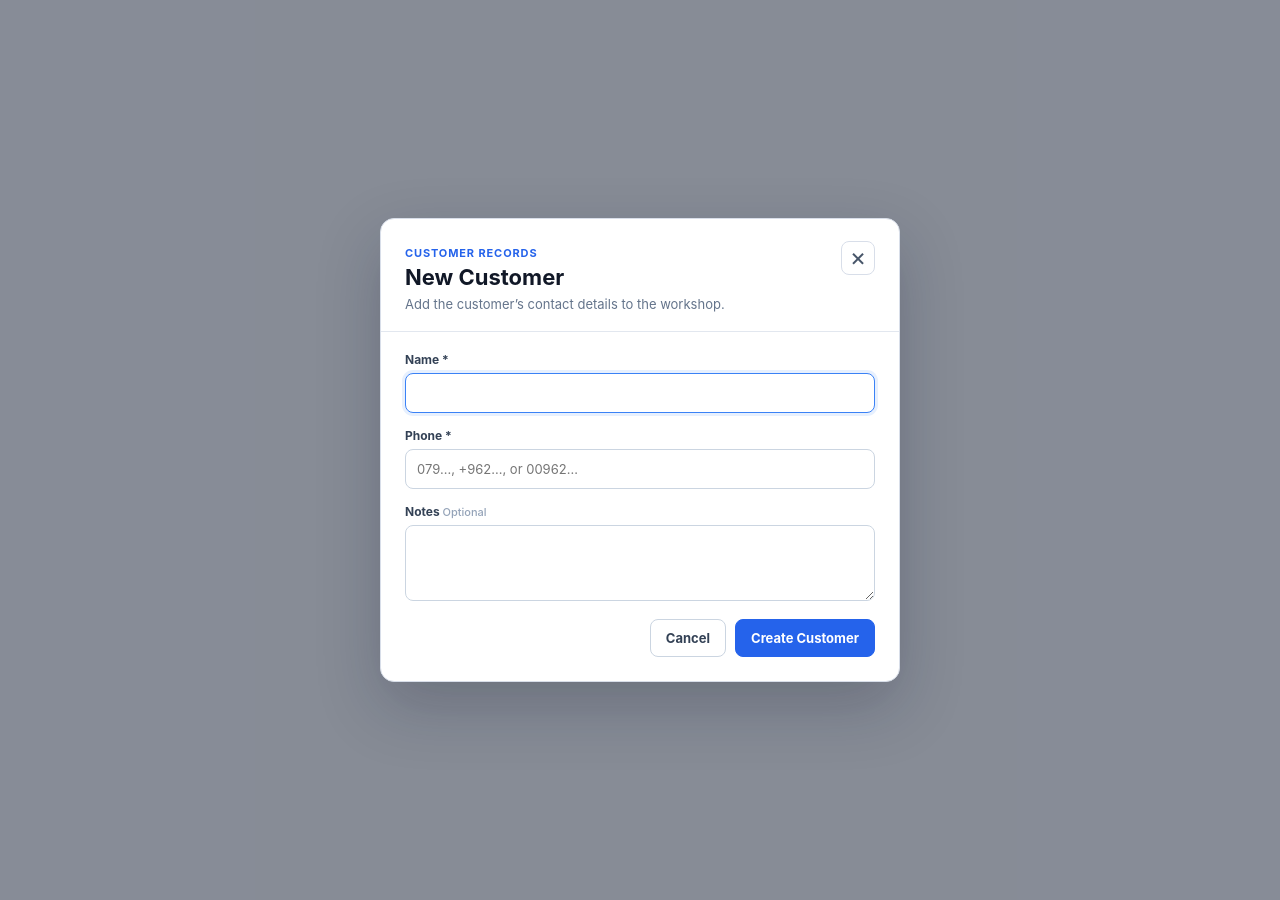
Test: NewCustomerDialog › shows safe validationError feedback
In the field labelled "Name": (640, 393) x1=405 y1=373 x2=875 y2=413, type "Ahmad Ali"
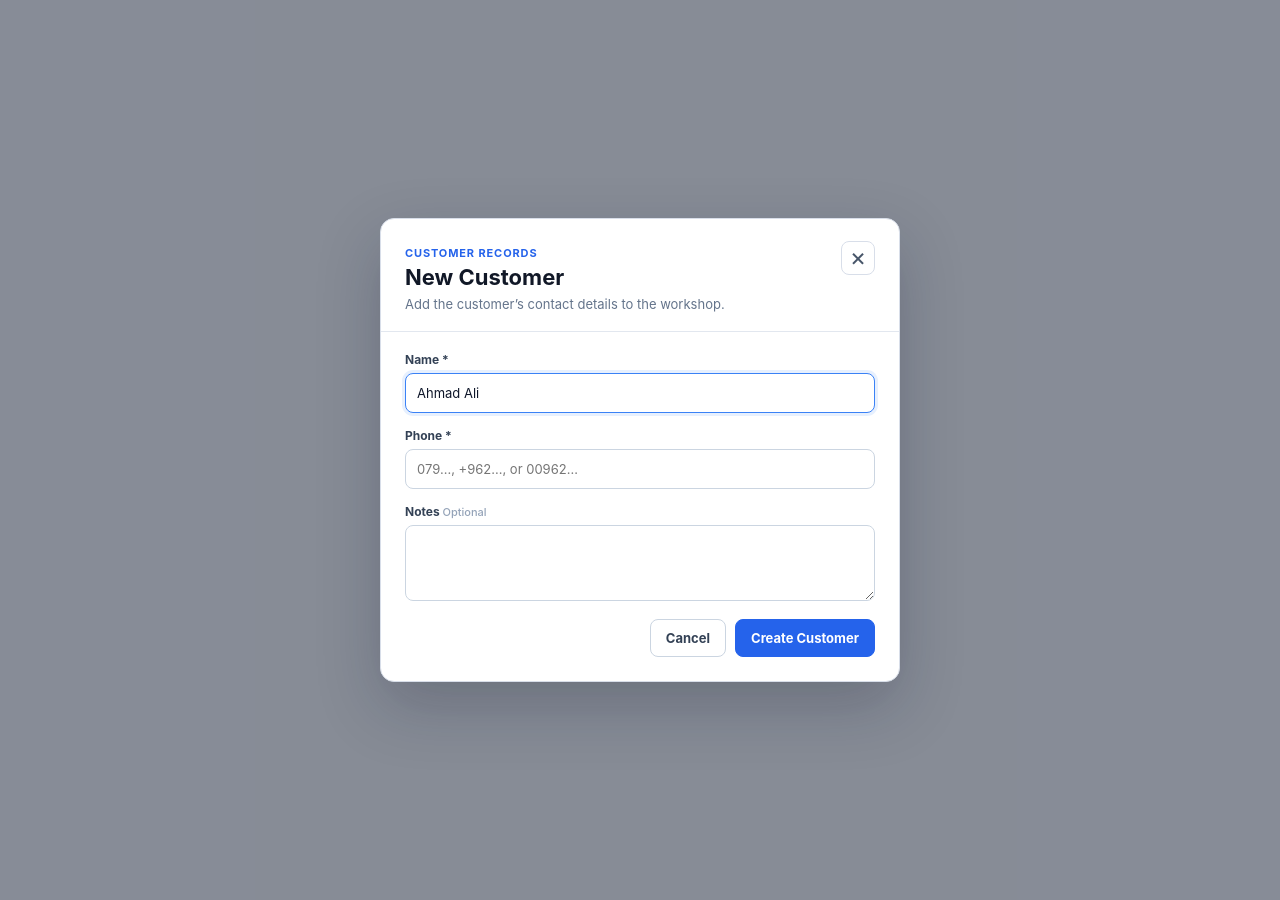
In the field labelled "Phone": (640, 469) x1=405 y1=449 x2=875 y2=489, type "0791234567"
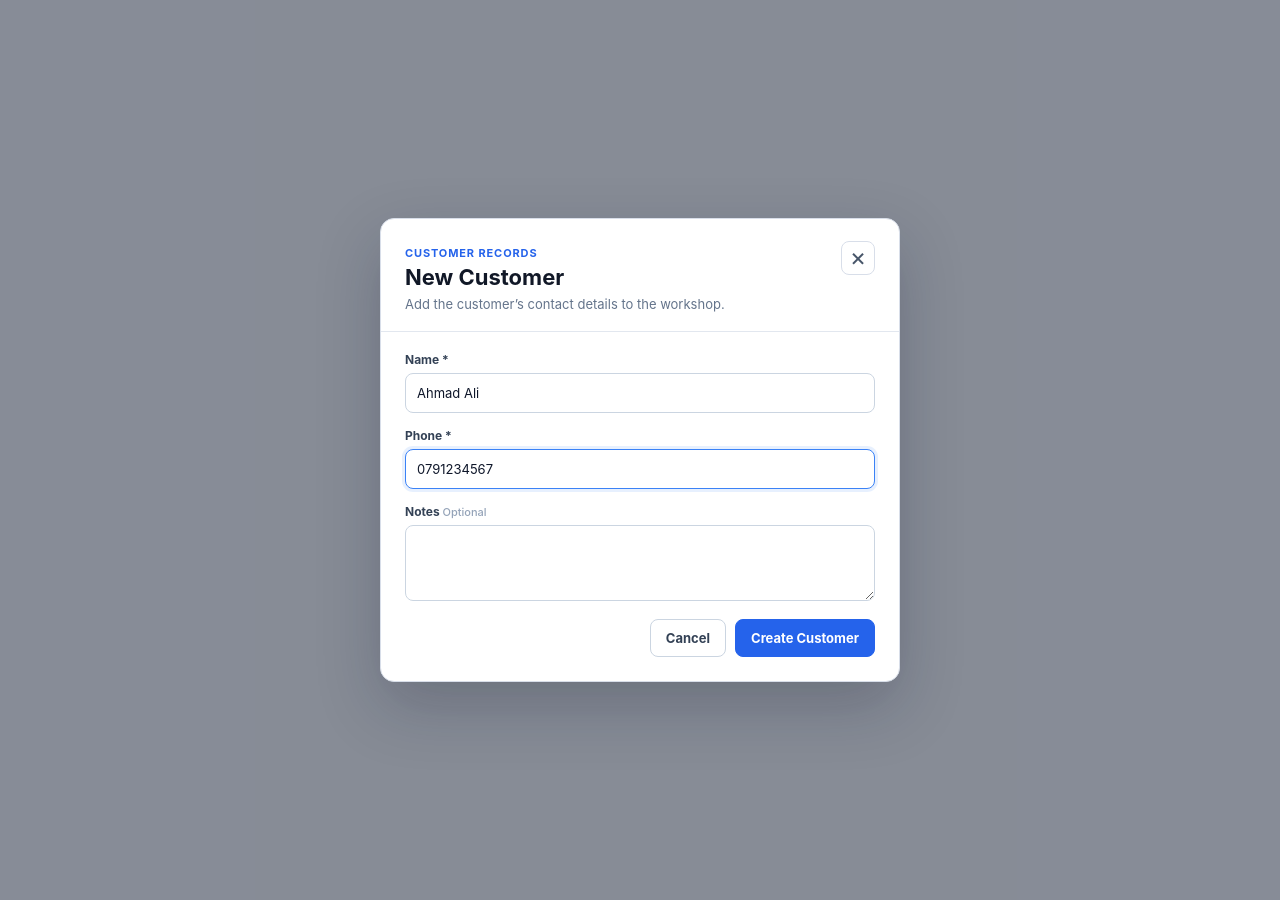
Click the button "Create Customer": click(805, 638) x1=735 y1=619 x2=875 y2=657
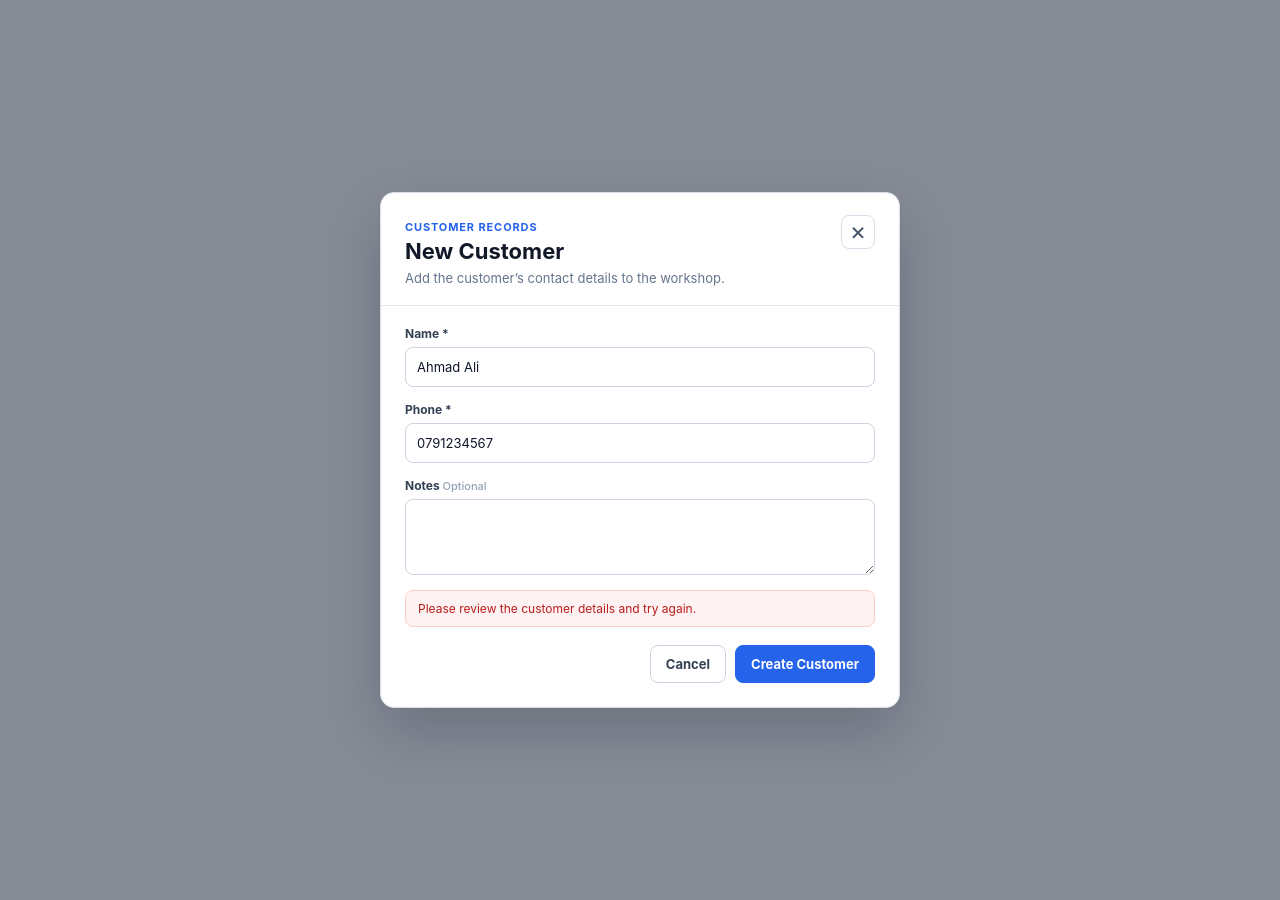
Result: the text "Please review the customer details and try again." is shown at x1=405 y1=590 x2=875 y2=627
